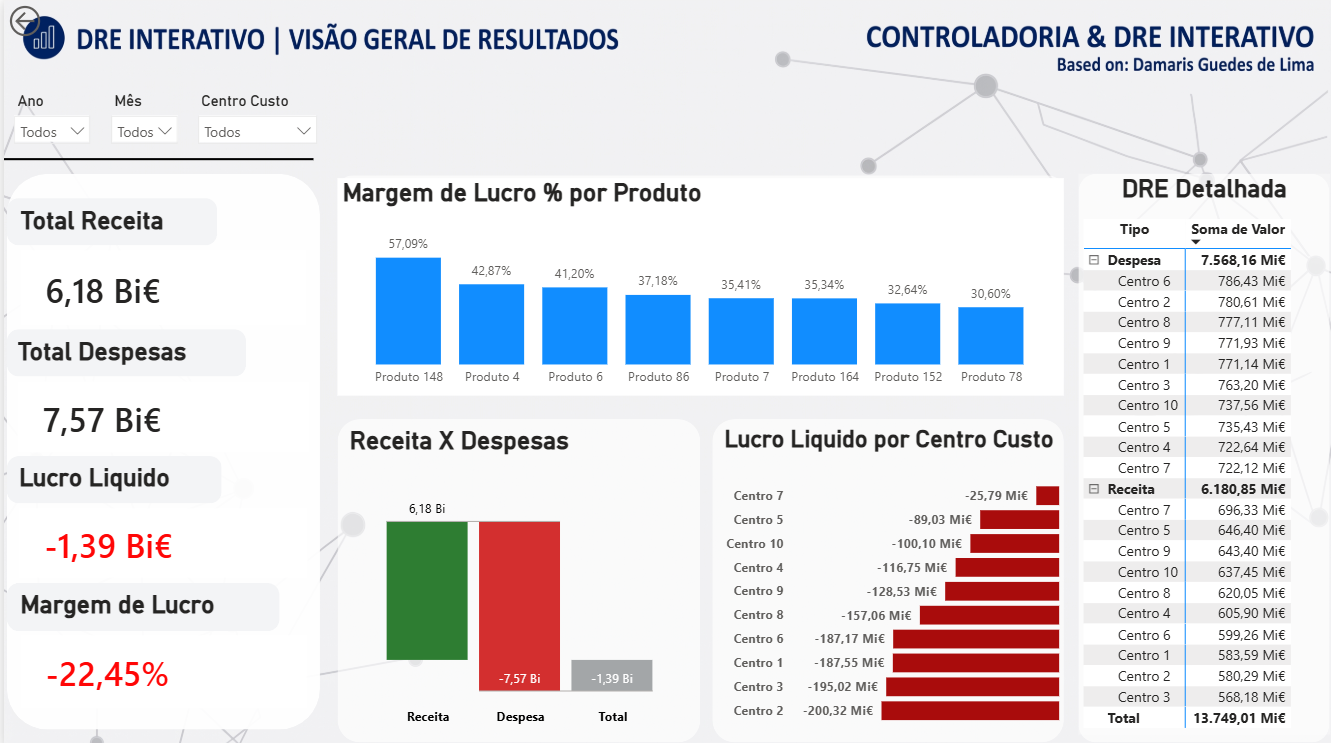

What the dashboard file says about the page in this screenshot:
{"tool":"powerbi","page":{"name":"Página 1","canvas":[1280,720],"ordinal":0},"visuals":[{"type":"shape","box":[2.9,167.6,301,534.3],"z":0},{"type":"shape","box":[2.2,190,202.2,45.6],"z":1000},{"type":"shape","box":[10,111.6,72,25.6],"z":2000},{"type":"cardVisual","title":"Total Receita","fields":{"Data":["Fato_Financeiro_10000.Total Receita"]},"box":[11.5,197.1,284.3,120.6],"z":3000},{"type":"slicer","fields":{"Values":["Dim_Calendario_Realista.Ano"]},"box":[0,83,93,61],"z":4000},{"type":"actionButton","box":[0,0,100,40],"z":5000},{"type":"shape","box":[187.9,111.2,112.5,25.8],"z":6000},{"type":"shape","box":[103.6,111.6,63.2,25.6],"z":7000},{"type":"slicer","fields":{"Values":["Dim_Calendario_Realista.Mês"]},"box":[93,83,84,61],"z":8000},{"type":"slicer","fields":{"Values":["Dim_CentroCusto.Centro_Custo"]},"box":[177,83,134,61],"z":9000},{"type":"shape","box":[0,133.8,297.5,37.5],"z":10000},{"type":"shape","box":[2.2,316.7,230,45.6],"z":11000},{"type":"shape","box":[2.2,438.9,206.7,45.6],"z":12000},{"type":"cardVisual","title":"Total Despesas","fields":{"Data":["Fato_Financeiro_10000.Total Despesa"]},"box":[8.5,323.1,290.4,116.9],"z":13000},{"type":"shape","box":[2.2,560,262.2,46.7],"z":14000},{"type":"cardVisual","title":"Lucro Liquido","fields":{"Data":["Fato_Financeiro_10000.Lucro Liquido"]},"box":[10,445.5,287.2,115.7],"z":15000},{"type":"cardVisual","title":"Margem de Lucro","fields":{"Data":["Fato_Financeiro_10000.Margem de Lucro %"]},"box":[11.1,566.7,285.7,119],"z":16000},{"type":"shape","box":[321.1,403.3,348.9,311.1],"z":17000},{"type":"waterfallChart","title":"Receita X Despesas","fields":{"Category":["Fato_Financeiro_10000.Tipo"],"Y":["Fato_Financeiro_10000.Valor Cascata"]},"box":[327.3,409.1,338.6,297.7],"z":18000},{"type":"shape","box":[321.2,167.9,698.1,209],"z":19000},{"type":"shape","box":[1032.2,167.8,241.1,546.7],"z":20000},{"type":"pivotTable","title":"DRE Detalhada","fields":{"Rows":["Fato_Financeiro_10000.Tipo","Dim_CentroCusto.Centro_Custo"],"Values":["Sum(Fato_Financeiro_10000.Valor)"]},"box":[1032.2,167.8,242.2,538.9],"z":21000},{"type":"shape","box":[681,403.2,338.1,311.1],"z":22000},{"type":"barChart","title":"Lucro Liquido  por Centro Custo","fields":{"Category":["Dim_CentroCusto.Centro_Custo"],"Y":["Fato_Financeiro_10000.Lucro Liquido"]},"box":[687.3,407.9,331.7,298.4],"z":23000},{"type":"clusteredColumnChart","fields":{"Y":["Fato_Financeiro_10000.Margem de Lucro %"],"Category":["Dim_Produtos.Produto"]},"box":[320.6,171.4,698,209],"z":24000}]}

Visuals, with their boxes in screenshot pixels (x1, y1, x2, y2), scaled from the page's 1280x720 canvas onto the 1331x743 screenshot:
shape: BBox(3, 173, 316, 724)
shape: BBox(2, 196, 213, 243)
shape: BBox(10, 115, 85, 142)
"Total Receita" cardVisual: BBox(12, 203, 308, 328)
slicer - Dim_Calendario_Realista.Ano: BBox(0, 86, 97, 149)
actionButton: BBox(0, 0, 104, 41)
shape: BBox(195, 115, 312, 141)
shape: BBox(108, 115, 173, 142)
slicer - Dim_Calendario_Realista.Mês: BBox(97, 86, 184, 149)
slicer - Dim_CentroCusto.Centro_Custo: BBox(184, 86, 323, 149)
shape: BBox(0, 138, 309, 177)
shape: BBox(2, 327, 241, 374)
shape: BBox(2, 453, 217, 500)
"Total Despesas" cardVisual: BBox(9, 333, 311, 454)
shape: BBox(2, 578, 275, 626)
"Lucro Liquido" cardVisual: BBox(10, 460, 309, 579)
"Margem de Lucro" cardVisual: BBox(12, 585, 309, 708)
shape: BBox(334, 416, 697, 737)
"Receita X Despesas" waterfallChart: BBox(340, 422, 692, 729)
shape: BBox(334, 173, 1060, 389)
shape: BBox(1073, 173, 1324, 737)
"DRE Detalhada" pivotTable: BBox(1073, 173, 1325, 729)
shape: BBox(708, 416, 1060, 737)
"Lucro Liquido  por Centro Custo" barChart: BBox(715, 421, 1060, 729)
clusteredColumnChart - Fato_Financeiro_10000.Margem de Lucro % x Dim_Produtos.Produto: BBox(333, 177, 1059, 393)
